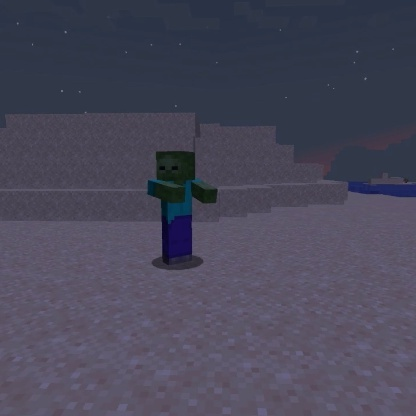zombie: (144, 147, 222, 268)
